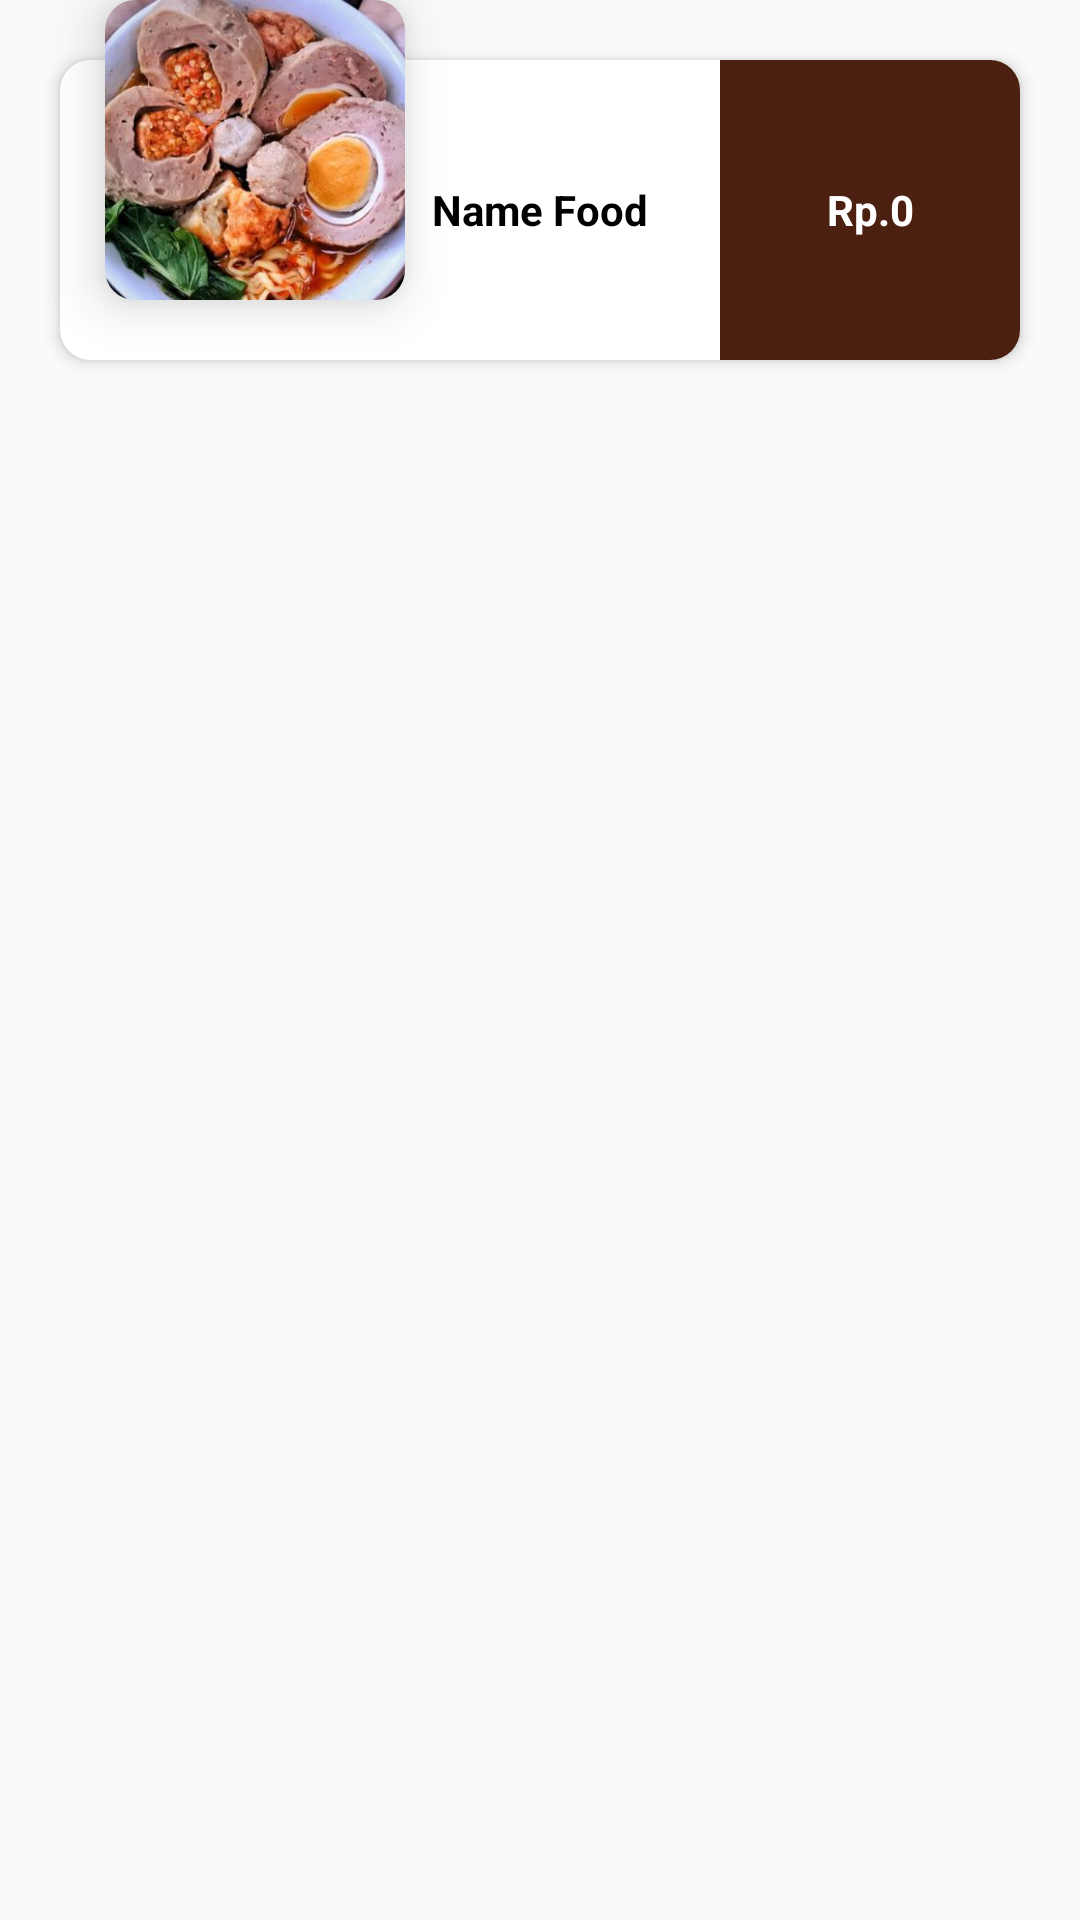

Locate icon controls on the screen. Image size 1080x1920, boxes as (x1, y1, x2, y2).
bakso: (105, 0, 405, 300)
